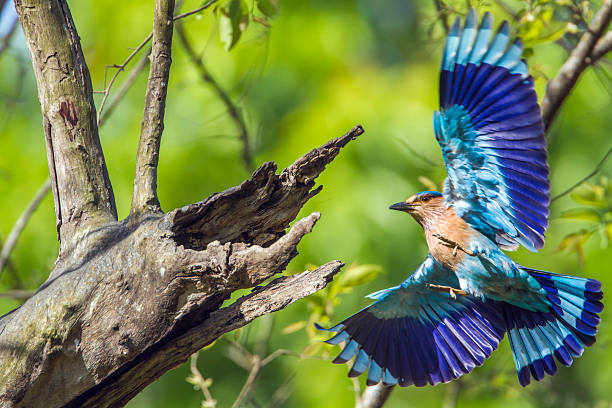Bird: (315, 8, 608, 392)
